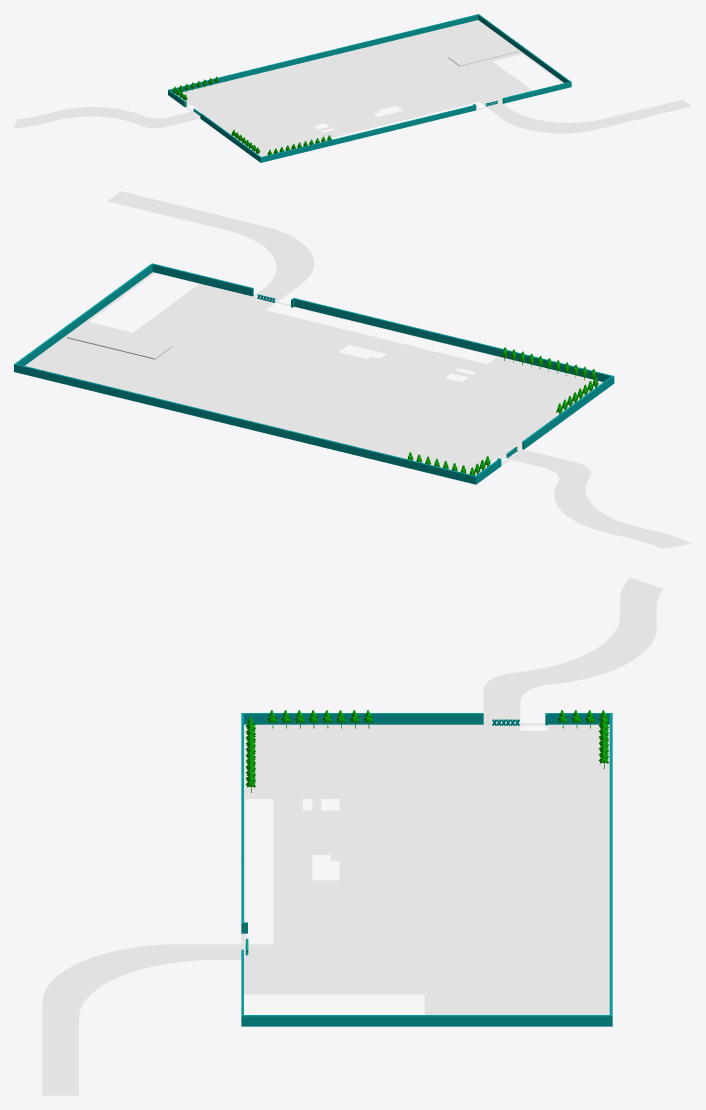
The picture shows the model from 3 angles, top to bottom: view 1: azimuth 30°, elevation 25°; view 2: azimuth 150°, elevation 25°; view 3: azimuth 270°, elevation 25°; orthographic projection. The views are drawn at different scales.
Visible parts, largest first — view 1: Group_86, Group_105, Group_48; view 2: Group_86, Group_105, Group_48; view 3: Group_86, Group_105, Group_48.
Part boxes in pixels (x1,y1,x2,y2): Group_86: (175, 20, 563, 156); Group_105: (14, 99, 691, 133); Group_48: (448, 43, 519, 66); Group_86: (25, 272, 602, 475); Group_105: (107, 191, 691, 548); Group_48: (66, 324, 172, 359); Group_86: (241, 723, 609, 1014); Group_105: (42, 577, 663, 1095); Group_48: (437, 964, 483, 1014).
Size of the model in its own units: 268 by 4.33 by 136.
